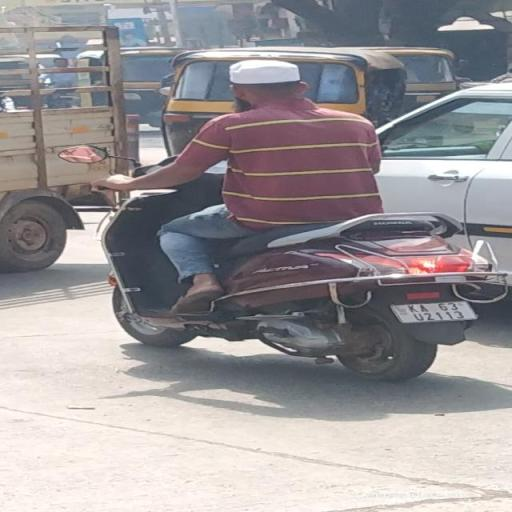bike: (54, 56, 506, 386)
numberplate: (391, 294, 481, 328)
withouthelmet: (232, 60, 306, 110)
